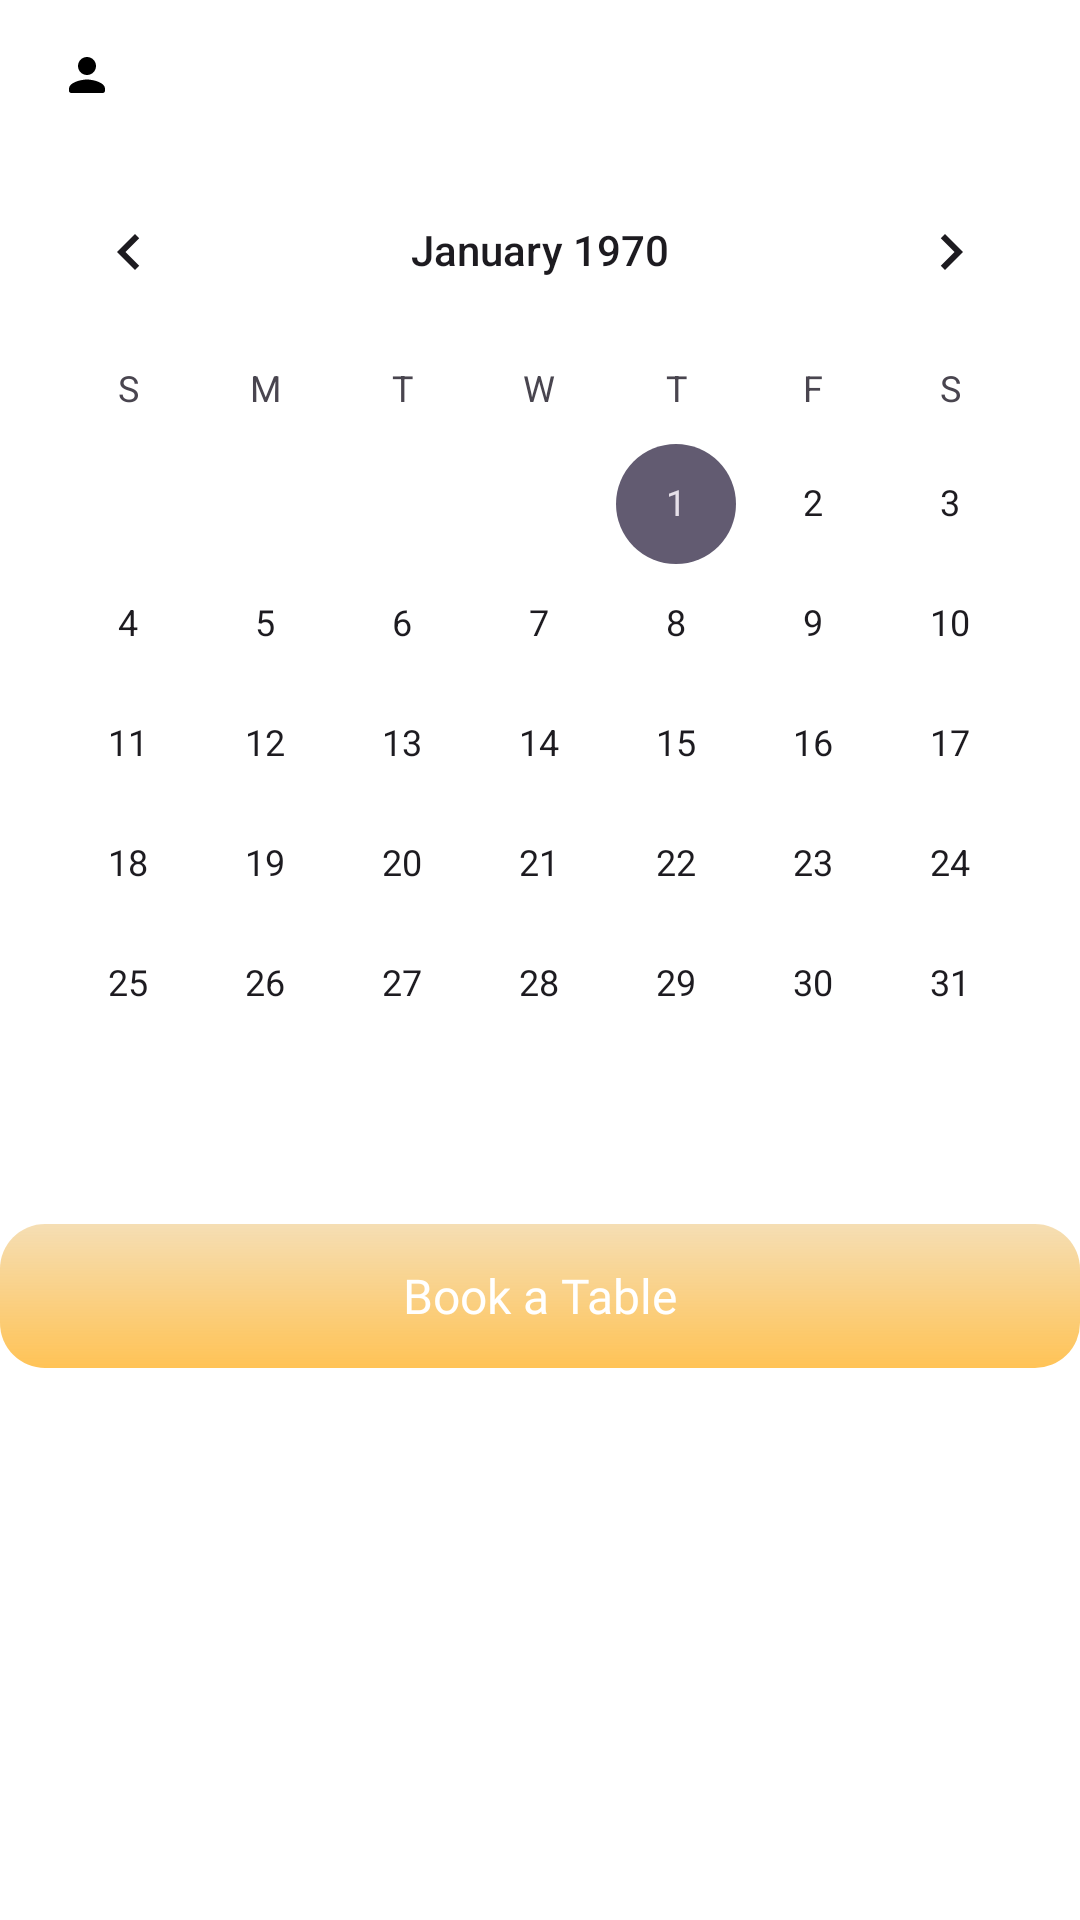

Icon click points for this 1080w x 1920h phone screenshot, format point (x, y):
person: point (87, 75)
